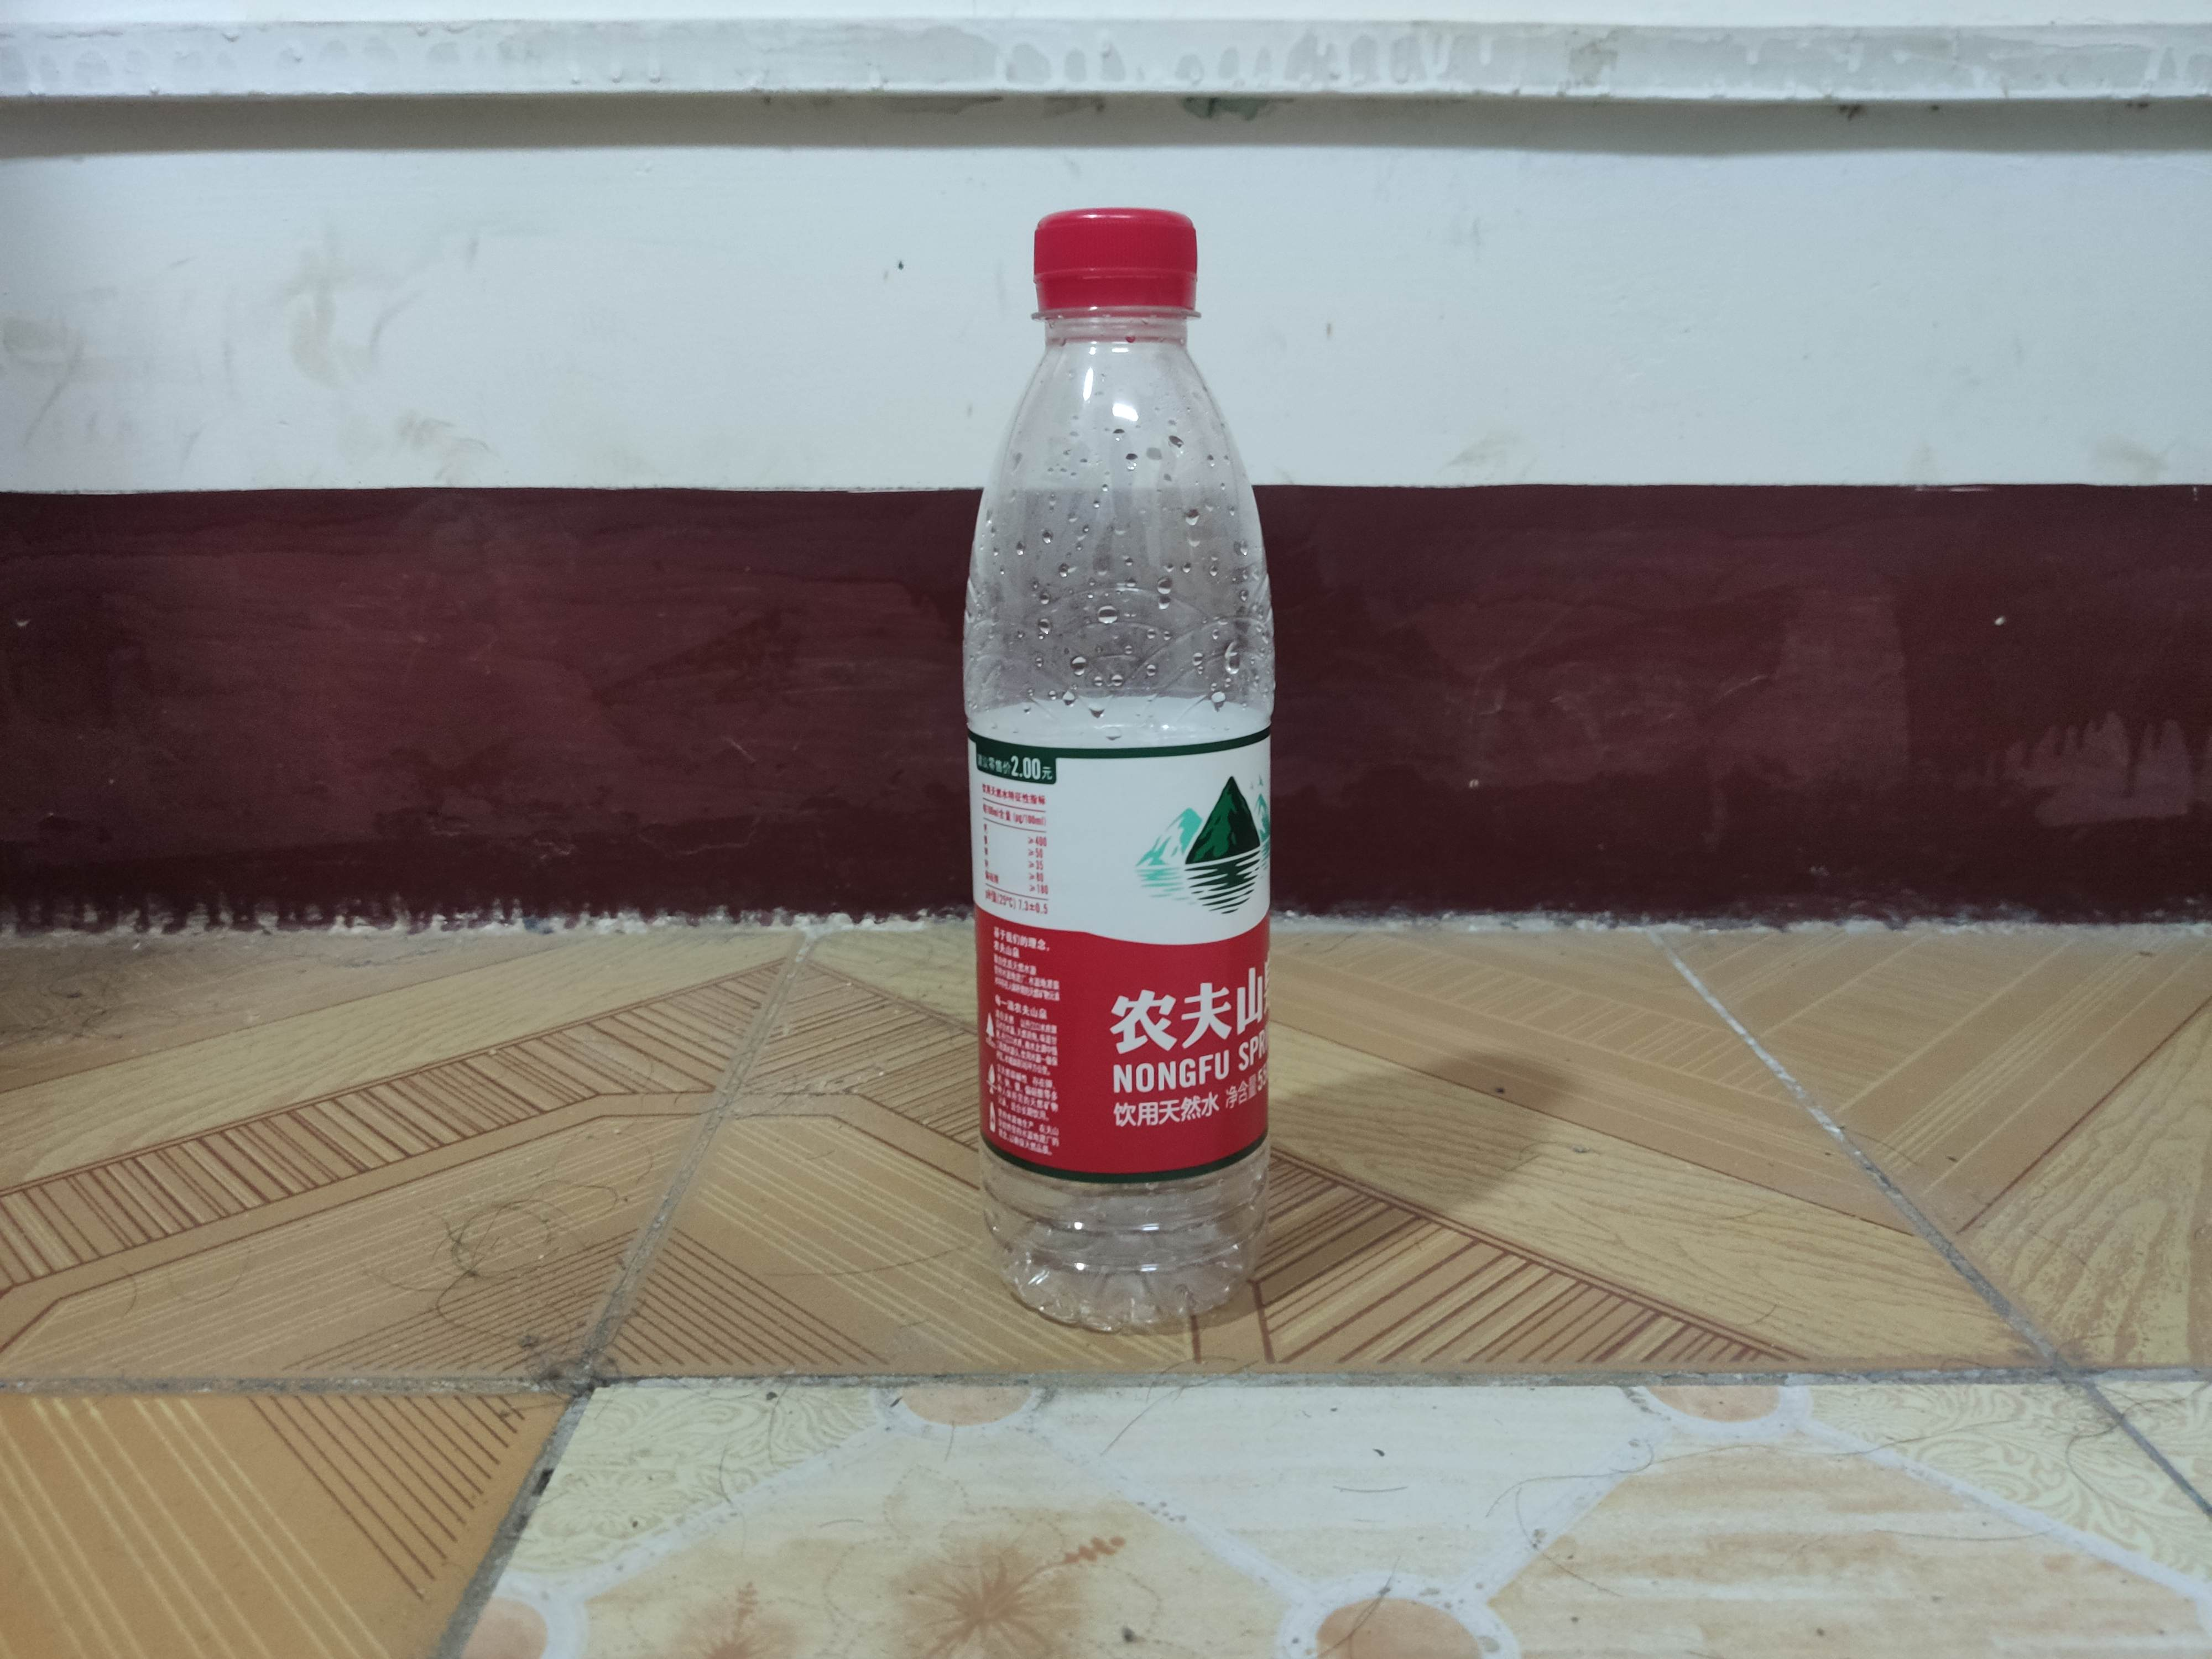Plastic Bottle: (953, 204, 1282, 1337)
